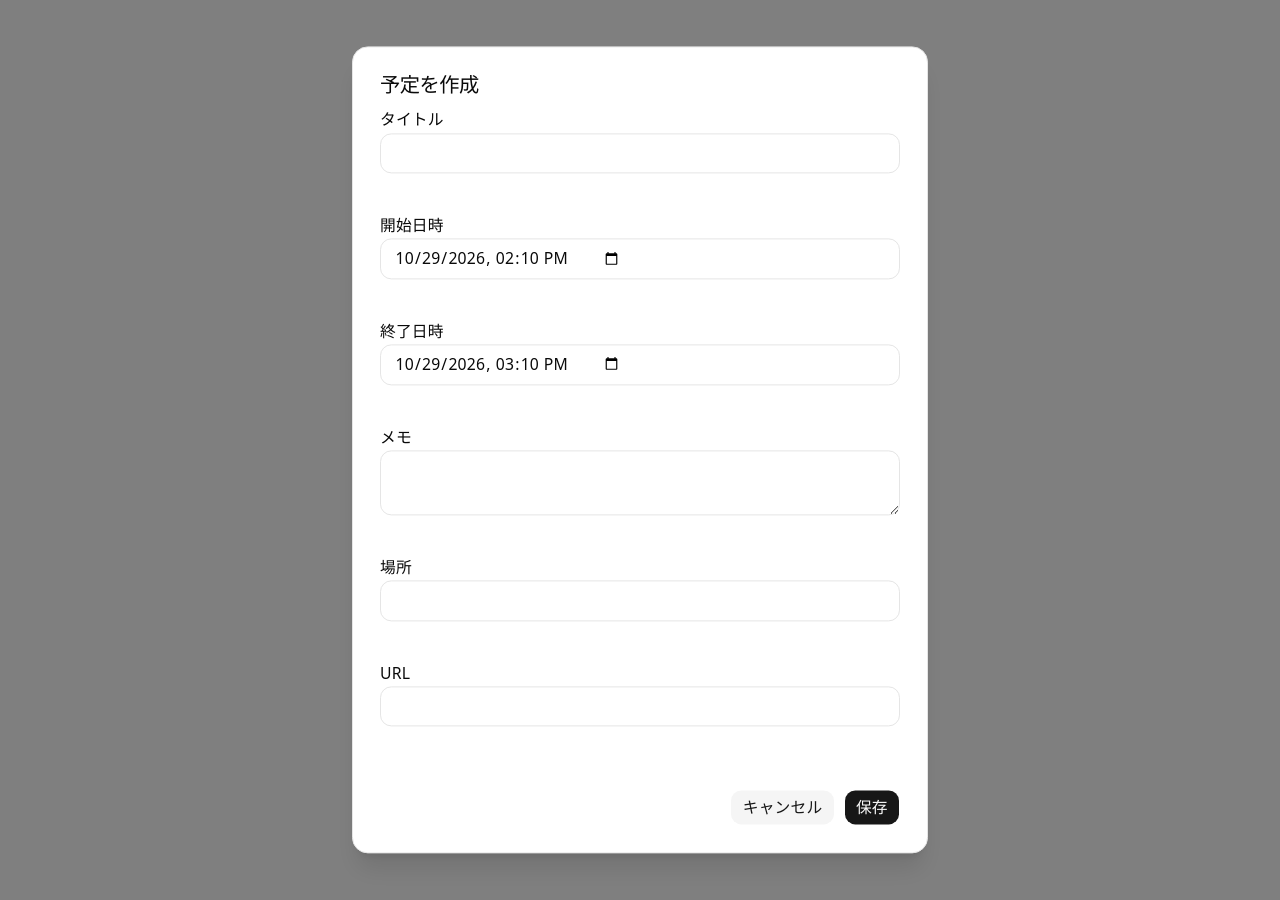
Scenario: EventFormModal › バリデーション › タイトルが空の場合はエラーを表示し送信しない
Click the button "保存": (872, 808) [844,790,900,826]
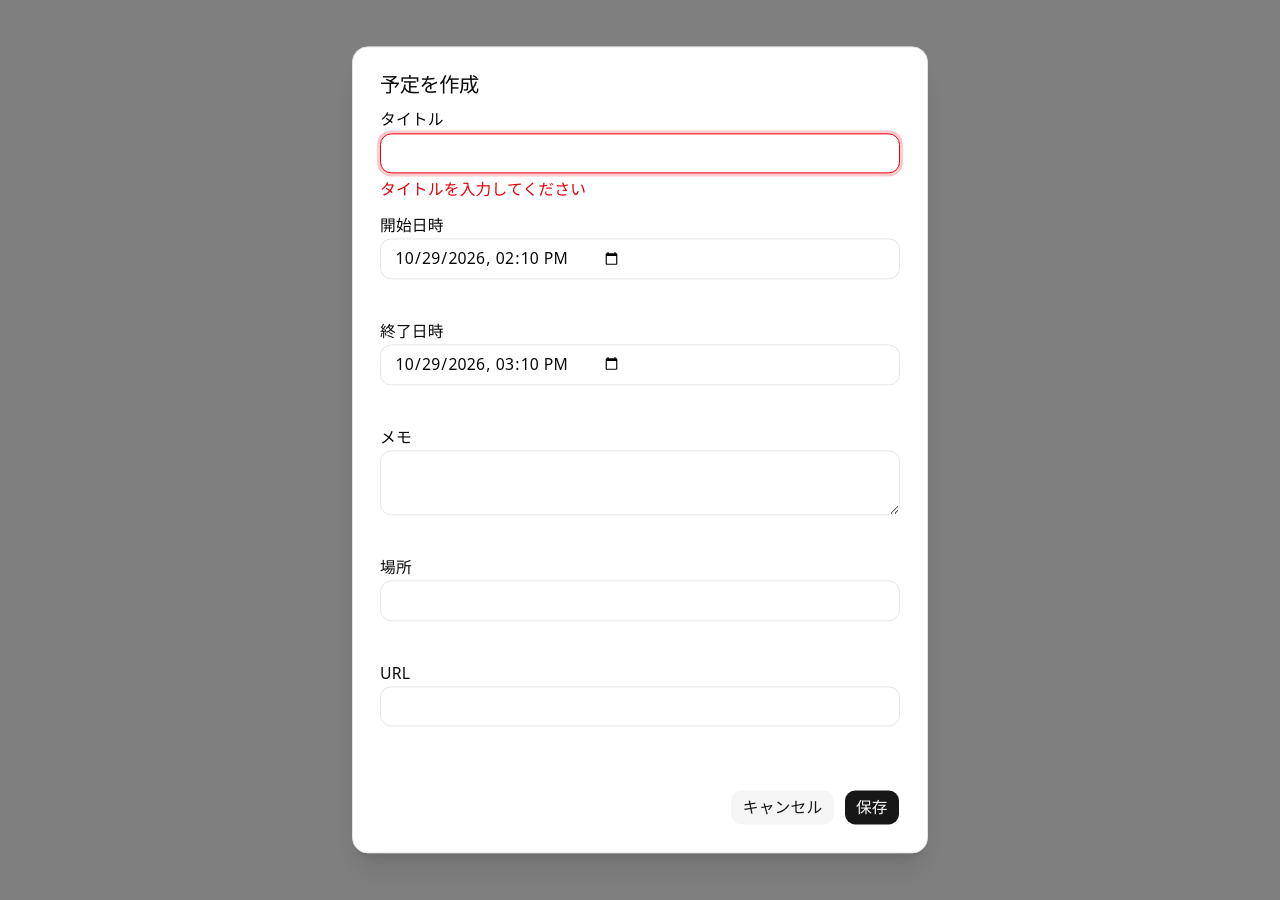
Expected: the text "タイトルを入力してください" is shown, [380,178,586,200]
